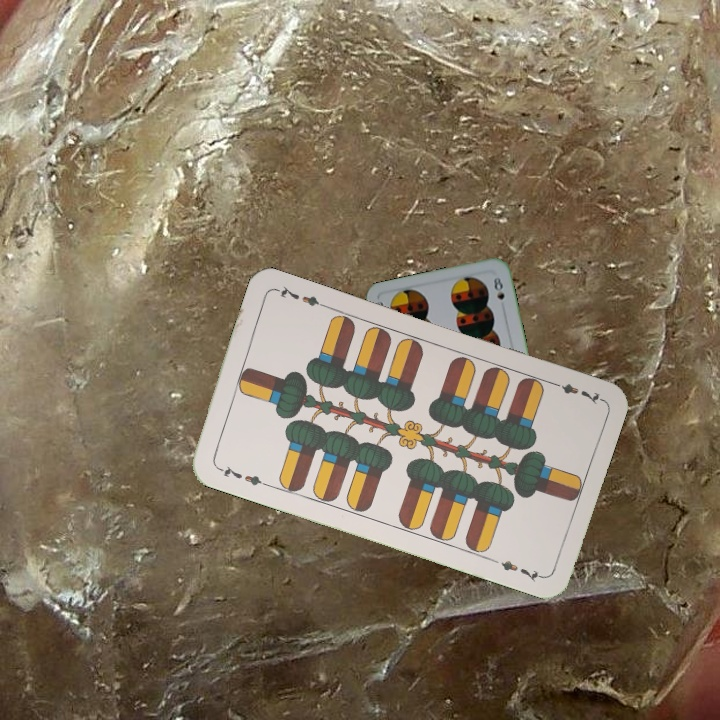E7: (546, 377, 604, 408), (212, 461, 270, 489)
